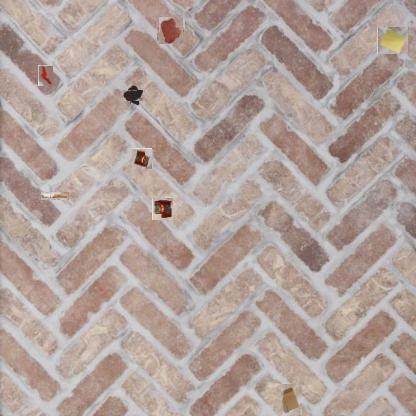dirty: (377, 26, 408, 54), (282, 384, 304, 416), (152, 198, 173, 220), (132, 149, 153, 169), (38, 65, 53, 86), (41, 192, 69, 200)
liquid: (158, 17, 184, 43), (125, 87, 141, 103)
